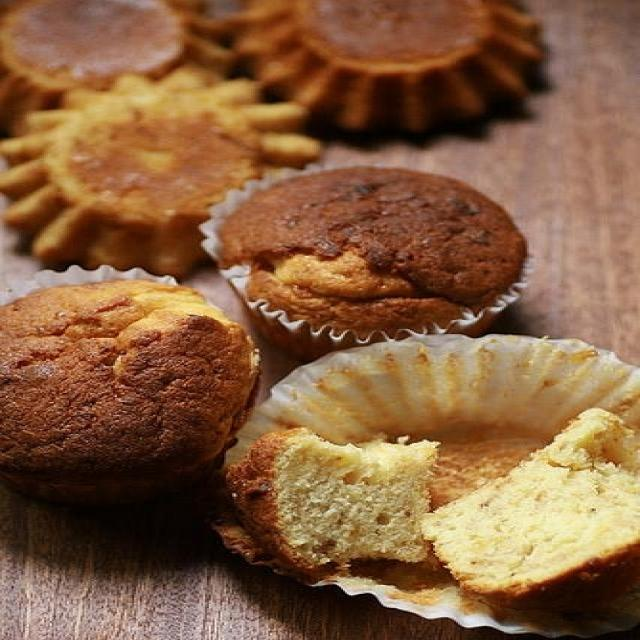炸货点心: (8, 5, 624, 621)
面包点心: (8, 5, 624, 621)
